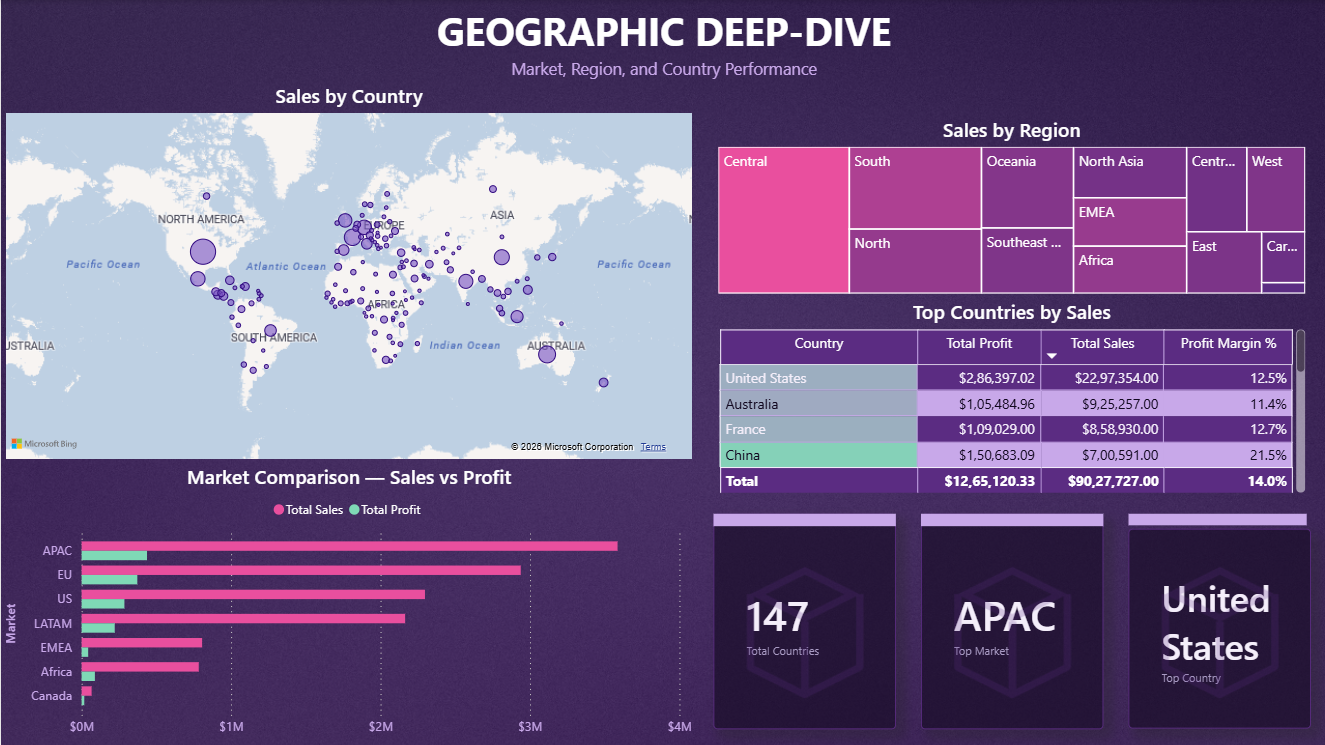

The dashboard page shown, as its layout file describes it:
{"tool":"powerbi","page":{"name":"Geographic Deep-Dive","canvas":[1280,720],"ordinal":2},"visuals":[{"type":"textbox","box":[0,0,1280,96],"z":0},{"type":"cardVisual","fields":{"Data":["Measures (2).Total Countries"]},"box":[688,496,176,208],"z":0,"group":"g1"},{"type":"cardVisual","fields":{"Data":["Measures (2).Top Market"]},"box":[888,496,176,208],"z":0,"group":"g2"},{"type":"cardVisual","fields":{"Data":["Measures (2).Top Country"]},"box":[1088,510.9,176,193.1],"z":0,"group":"g3"},{"type":"map","title":"Sales by Country","fields":{"Category":["SuperStoreOrders.country"],"Size":["Measures (2).Total Sales"]},"box":[0,80,672,368],"z":1000},{"type":"image","box":[888,496,176,208],"z":1000,"group":"g2"},{"type":"image","box":[1088,496,176,208],"z":1000,"group":"g3"},{"type":"clusteredBarChart","title":"Market Comparison — Sales vs Profit","fields":{"Category":["SuperStoreOrders.market"],"Y":["Measures (2).Total Sales","Measures (2).Total Profit"]},"box":[0,448,672,272],"z":2000},{"type":"shape","box":[888,496,176,12],"z":2000,"group":"g2"},{"type":"shape","box":[1088,496,172.1,11.1],"z":2000,"group":"g3"},{"type":"tableEx","title":"Top Countries by Sales","fields":{"Values":["SuperStoreOrders.country","Measures (2).Total Profit","Measures (2).Total Sales","Measures (2).Profit Margin %"]},"box":[688,288,576,192],"z":3000},{"type":"treemap","title":"Sales by Region","fields":{"Group":["SuperStoreOrders.region"],"Values":["Measures (2).Total Sales"]},"box":[688,112,576,176],"z":4000},{"type":"group","id":"g1","title":"Group 1","box":[688,496,176,208],"z":5000},{"type":"image","box":[688,496,176,208],"z":6000,"group":"g1"},{"type":"group","id":"g2","title":"Group 2","box":[888,496,176,208],"z":6000},{"type":"shape","box":[688,496,176,12],"z":7000,"group":"g1"},{"type":"group","id":"g3","title":"Group 3","box":[1088,496,176,208],"z":7000}]}

Visuals, with their boxes in screenshot pixels (x1, y1, x2, y2), scaled from the page's 1280x720 canvas onto the 1325x745 screenshot:
textbox: (x1=0, y1=0, x2=1324, y2=99)
cardVisual - Measures (2).Total Countries: (x1=712, y1=513, x2=894, y2=728)
cardVisual - Measures (2).Top Market: (x1=919, y1=513, x2=1101, y2=728)
cardVisual - Measures (2).Top Country: (x1=1126, y1=529, x2=1308, y2=728)
"Sales by Country" map: (x1=0, y1=83, x2=696, y2=464)
image: (x1=919, y1=513, x2=1101, y2=728)
image: (x1=1126, y1=513, x2=1308, y2=728)
"Market Comparison — Sales vs Profit" clusteredBarChart: (x1=0, y1=464, x2=696, y2=744)
shape: (x1=919, y1=513, x2=1101, y2=526)
shape: (x1=1126, y1=513, x2=1304, y2=525)
"Top Countries by Sales" tableEx: (x1=712, y1=298, x2=1308, y2=497)
"Sales by Region" treemap: (x1=712, y1=116, x2=1308, y2=298)
"Group 1" group: (x1=712, y1=513, x2=894, y2=728)
image: (x1=712, y1=513, x2=894, y2=728)
"Group 2" group: (x1=919, y1=513, x2=1101, y2=728)
shape: (x1=712, y1=513, x2=894, y2=526)
"Group 3" group: (x1=1126, y1=513, x2=1308, y2=728)
